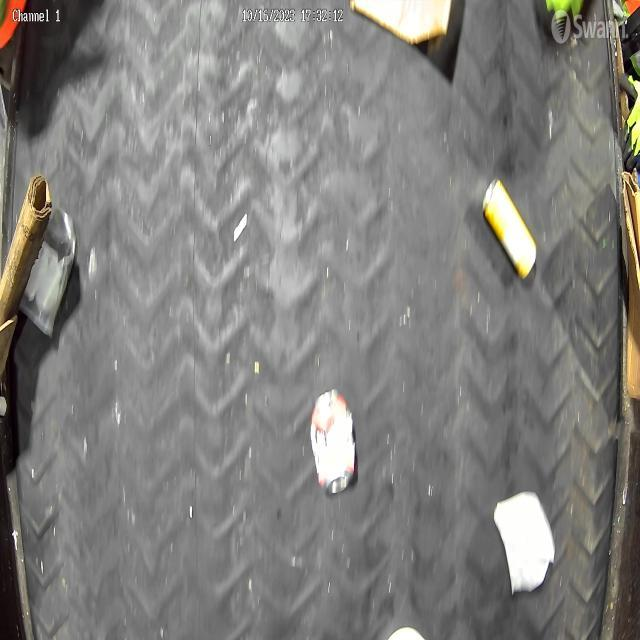can: (482, 175, 539, 283), (308, 392, 356, 499)
